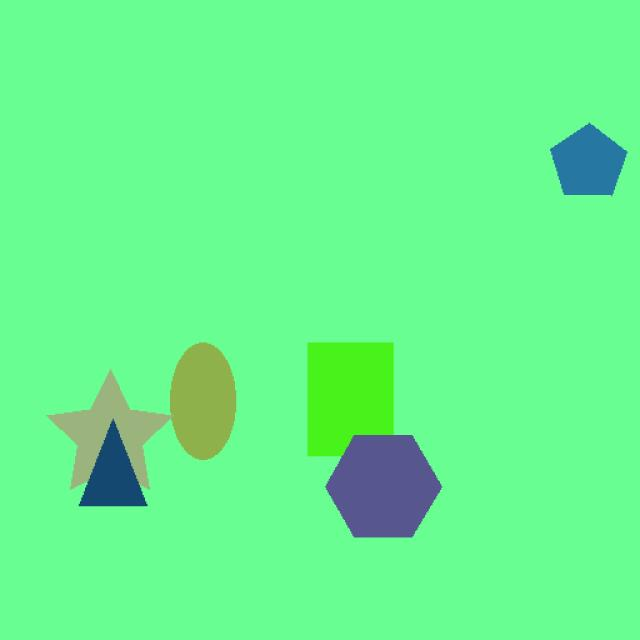Circle: (156, 336, 256, 468)
Hexagon: (318, 421, 458, 540)
Kite: (46, 366, 175, 490)
Pentagon: (525, 111, 640, 220)
Triangle: (75, 404, 164, 520)
square: (293, 335, 408, 464)
